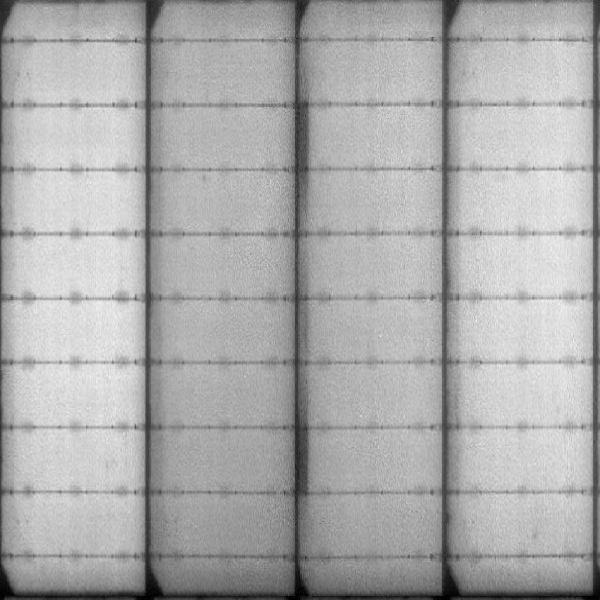black_border: (294, 104, 312, 199), (292, 419, 312, 493)
